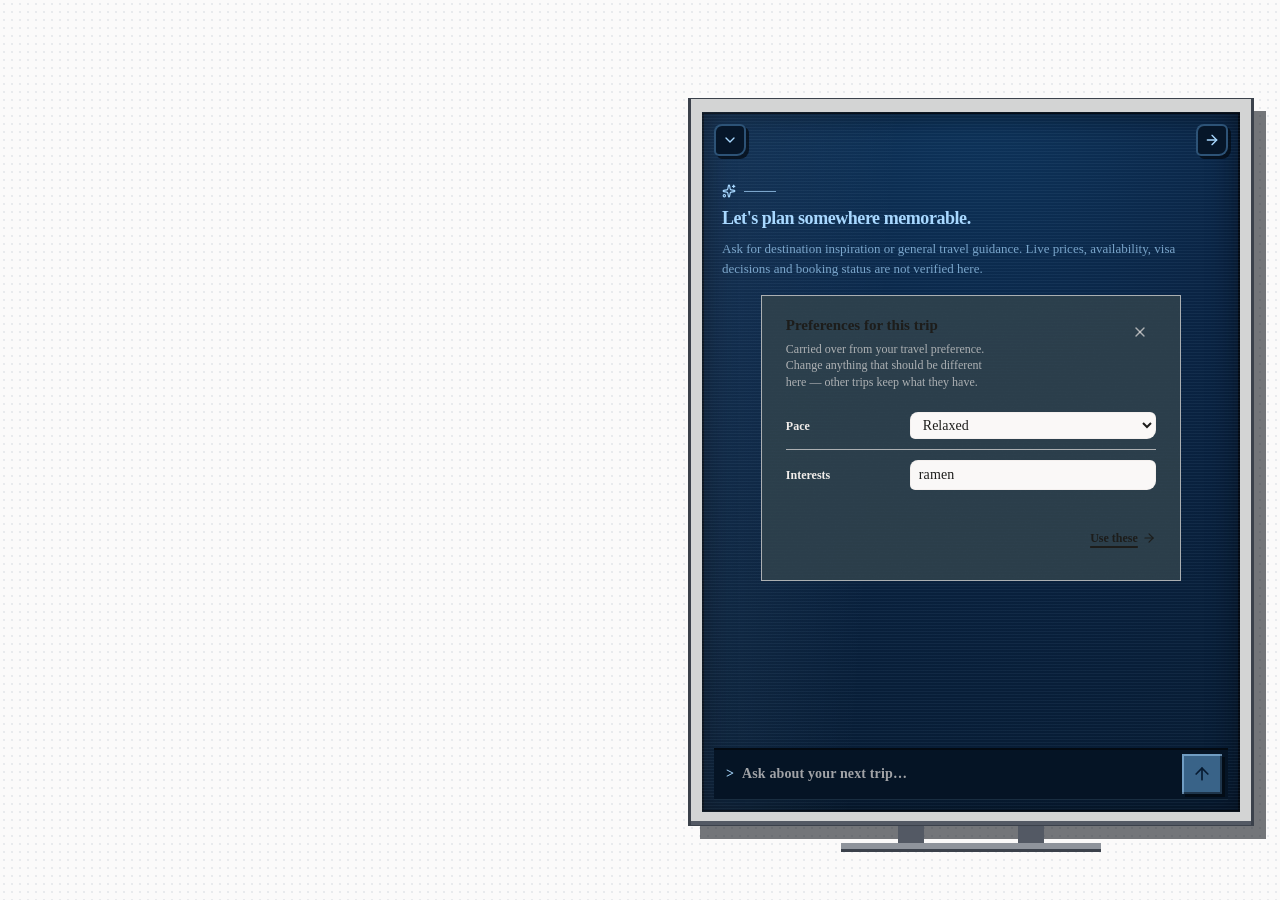
it: the trip's preference card › treats closing without a change as an answer, and writes no override
This screenshot has width=1280, height=900.
Click the button named "Close trip preferences" at (1140, 332), box [1124, 316, 1156, 348]
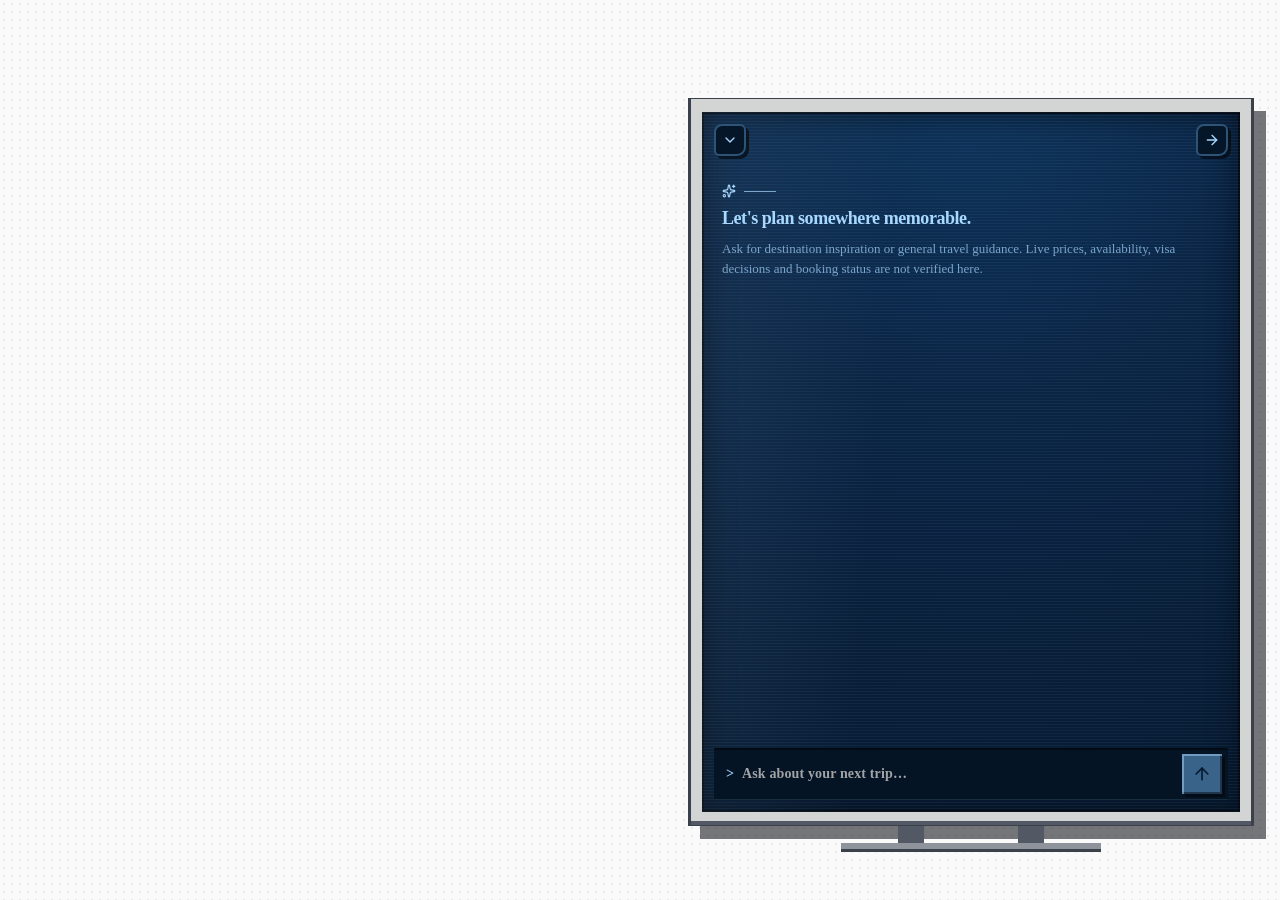
Expected: the element with test id "trip-preference-card" is gone
